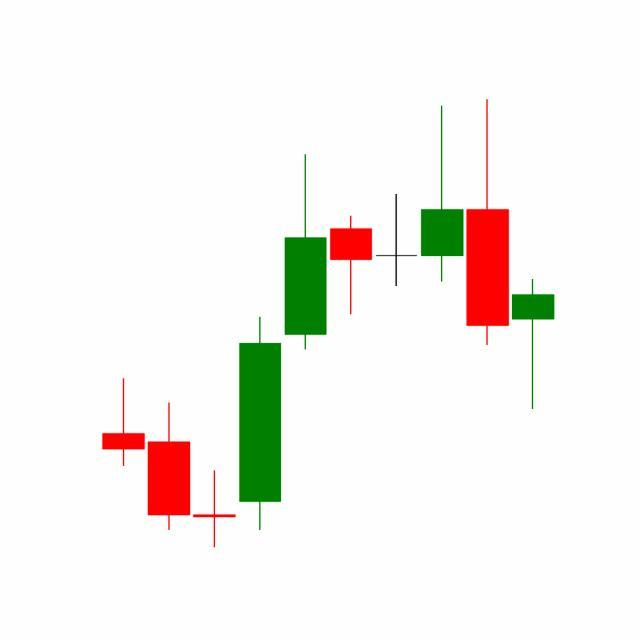Hikkake Pattern: (283, 99, 512, 354)
